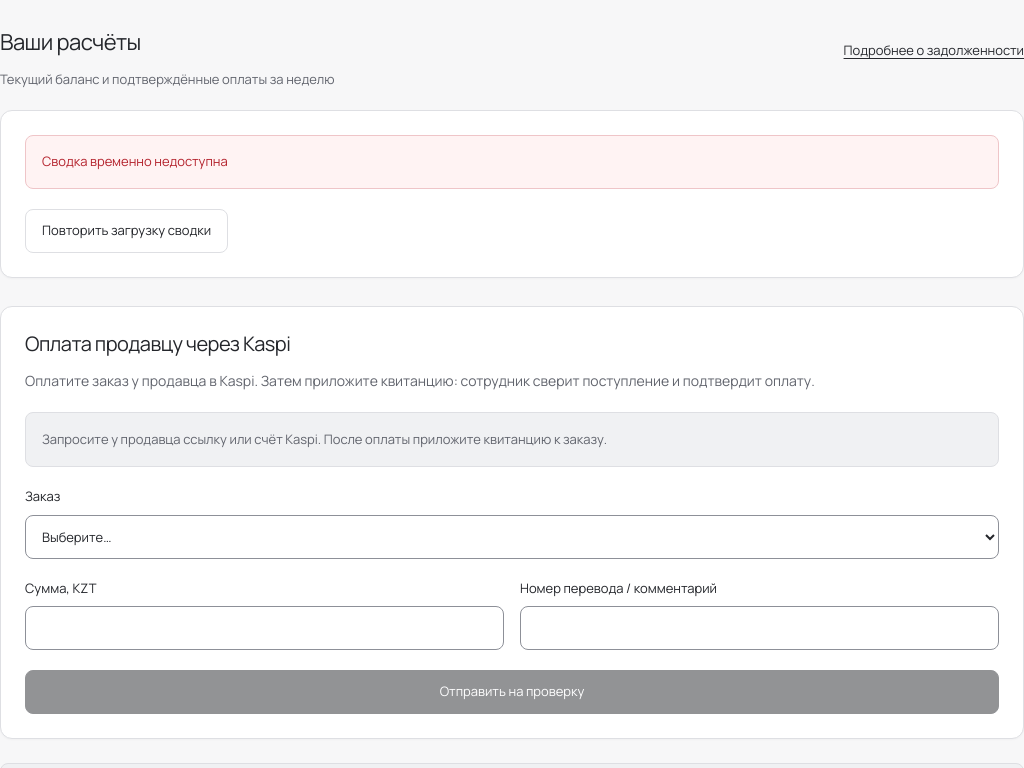
customer payment summary › shows a failed summary as unavailable and retries without displaying invented zero balances
expect the message reads "Сводка временно недоступна": met, box top-left (42, 152), bottom-right (228, 170)
Step 1. Click the button "Повторить загрузку сводки" → (127, 230), box top-left (25, 208), bottom-right (228, 252)
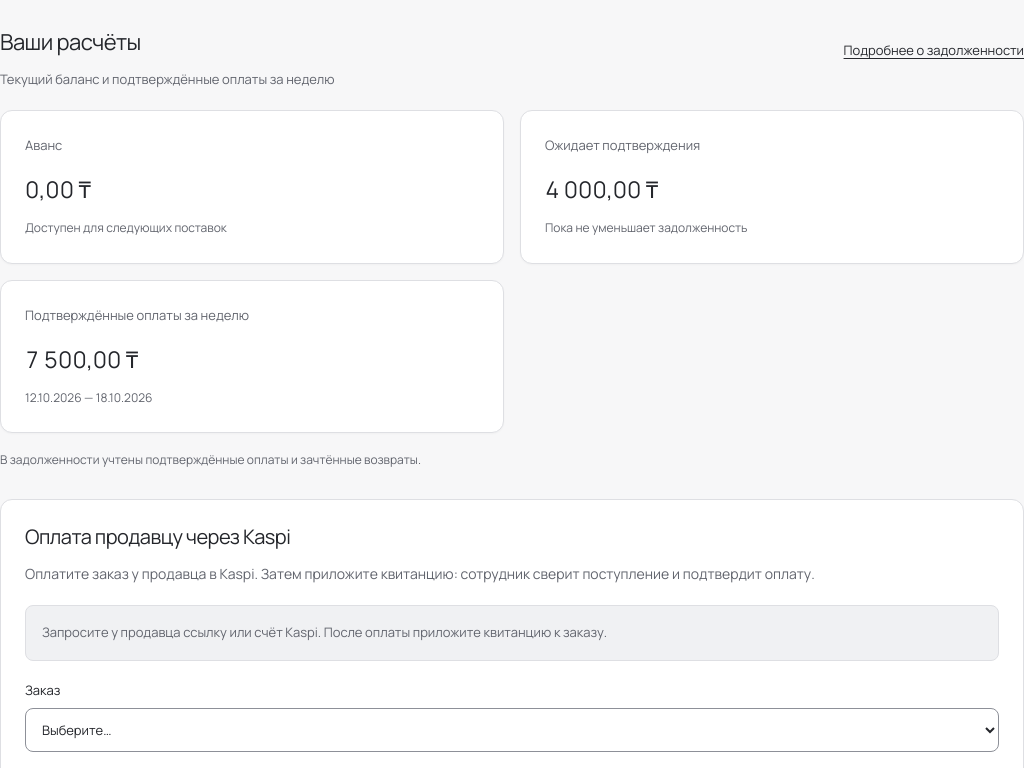
expect the element "Аванс" is shown: met, box top-left (0, 110), bottom-right (504, 264)
